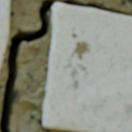brick: (42, 3, 131, 131), (0, 0, 10, 68)
crack: (0, 0, 131, 131)
